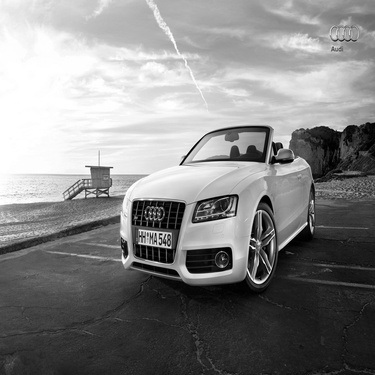car: (111, 111, 324, 296)
